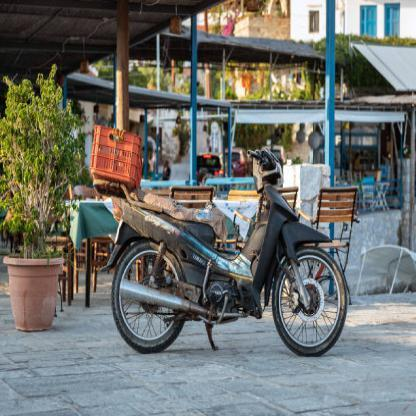Motorcycle: (85, 125, 351, 364)
